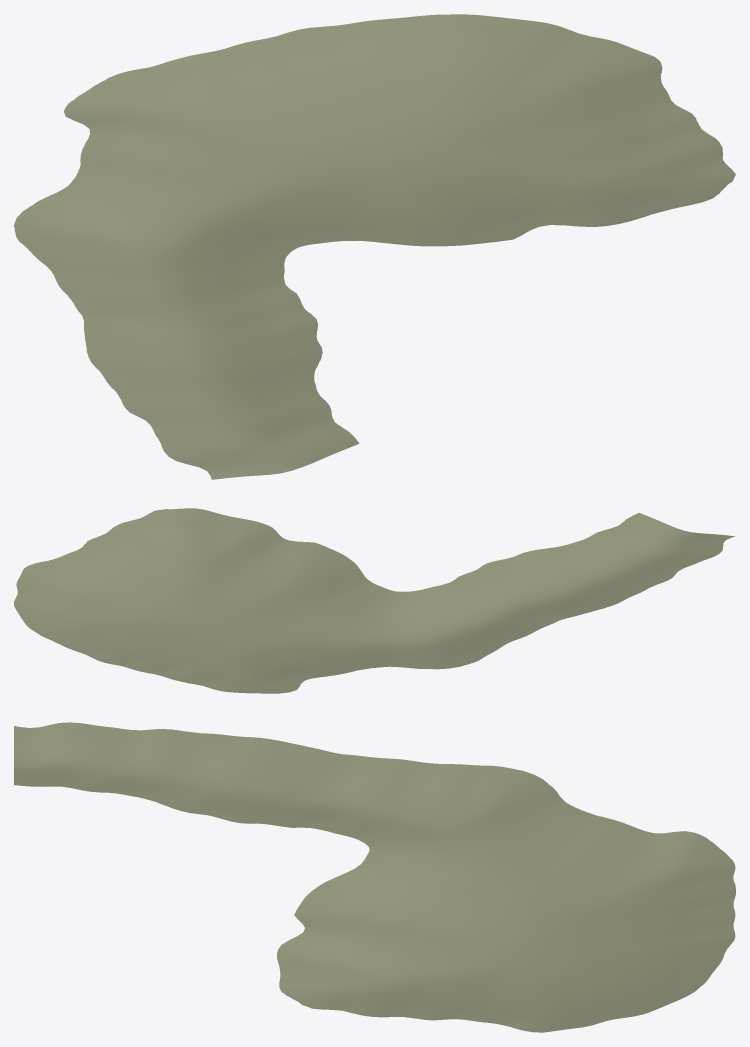
File: SM_ForestBed_WestPool.fbx
3 renders of one model, top to bottom at view 1: azimuth 30°, elevation 25°; view 2: azimuth 150°, elevation 25°; view 3: azimuth 270°, elevation 25°, orthographic. The views are drawn at different scales.
Visible parts, largest first — view 1: SM_ForestBed_WestPool; view 2: SM_ForestBed_WestPool; view 3: SM_ForestBed_WestPool.
Part boxes in pixels (bbox=[...]): SM_ForestBed_WestPool: bbox=[14, 14, 735, 479]; SM_ForestBed_WestPool: bbox=[14, 508, 734, 693]; SM_ForestBed_WestPool: bbox=[14, 722, 735, 1032].
Bounding box in the file's own units: 2892 × 2845 × 101.
